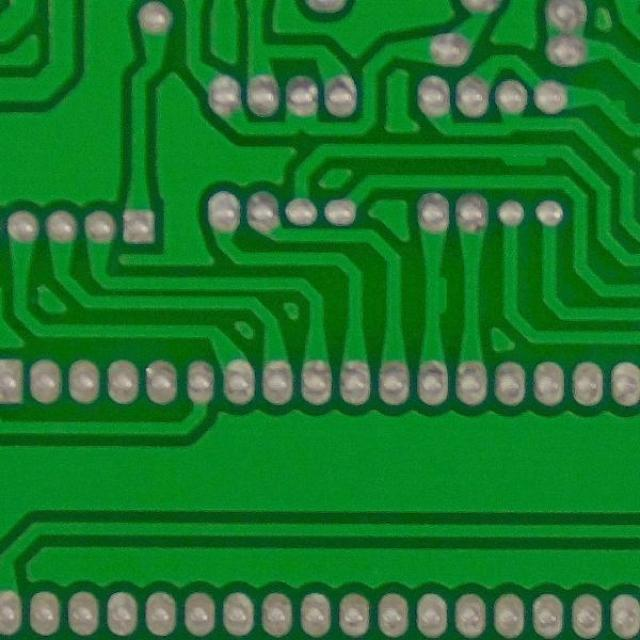spur: (490, 138, 554, 172), (422, 271, 453, 320), (602, 88, 636, 122)
